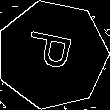P_E: (23, 31, 81, 78)
